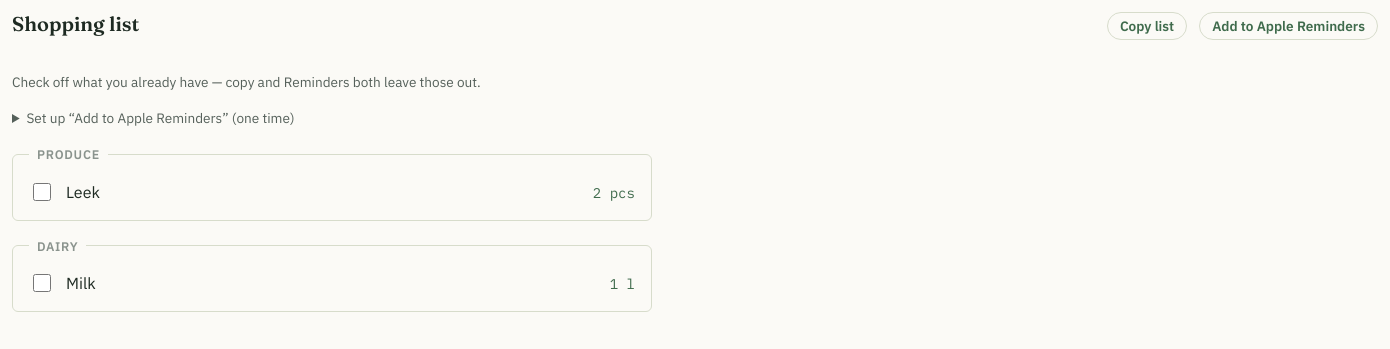
ShoppingList copy button › copies the unchecked items to the clipboard
Click the checkbox labelled "Milk 1 l" at (42, 283), box [33,274,51,292]
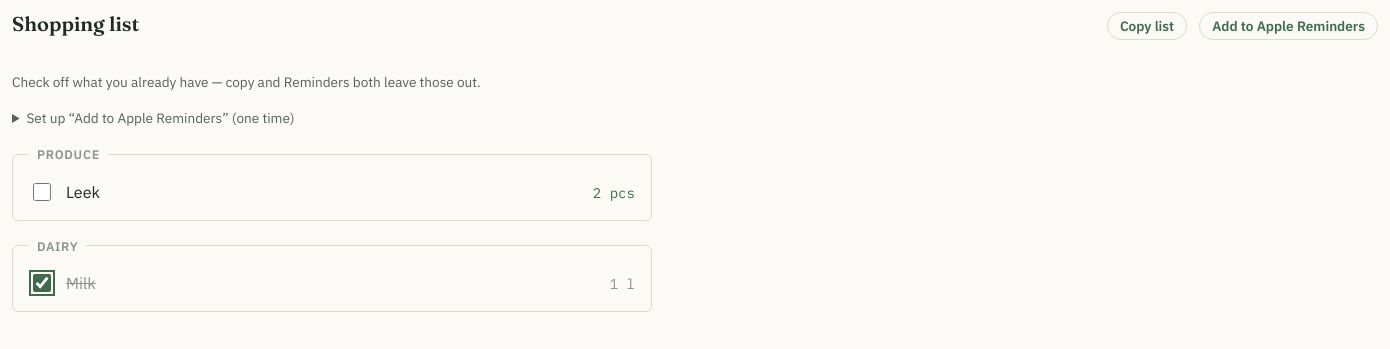
Click the button "Copy list" at (1147, 26), box [1107,12,1187,40]
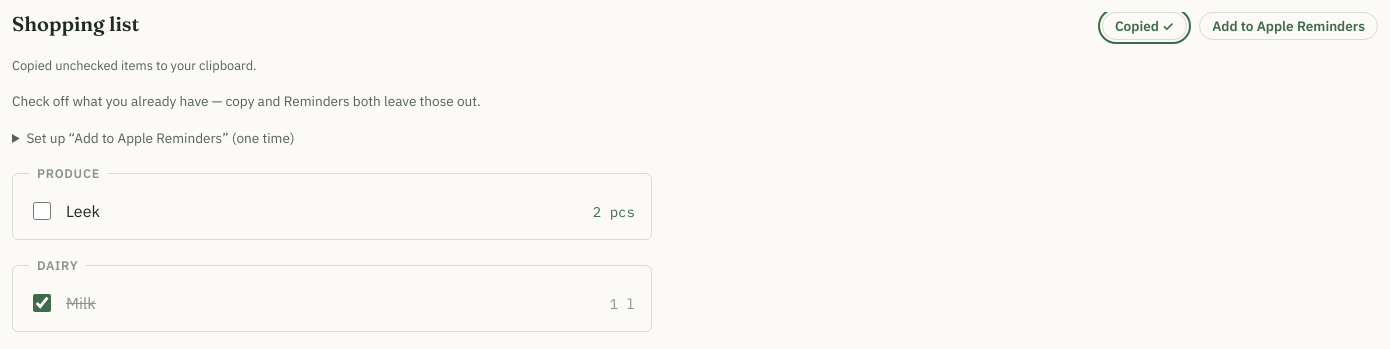
expect the button "Copied ✓" is shown: met, box [1102,12,1187,40]
